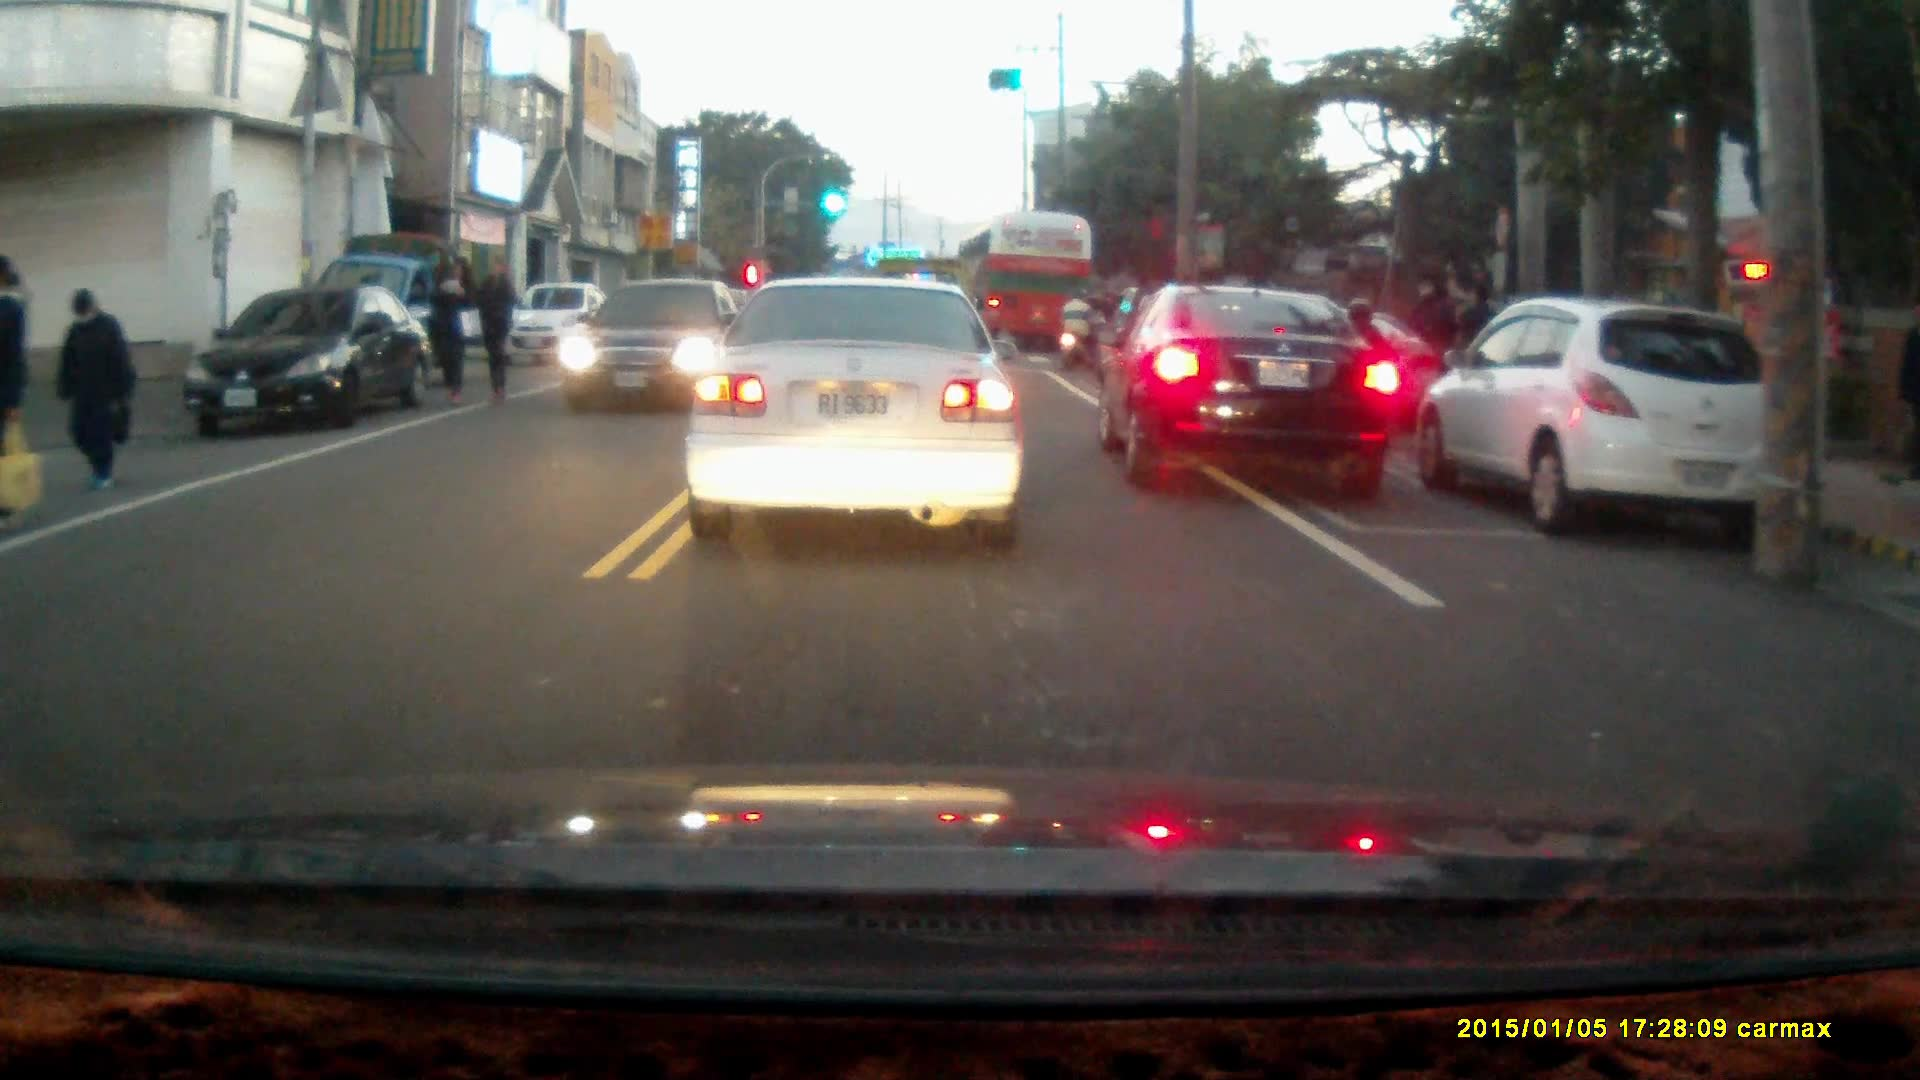pedestrian: (53, 286, 131, 495), (0, 251, 31, 524), (429, 256, 479, 407), (475, 255, 515, 408), (1455, 283, 1497, 399), (1417, 283, 1458, 391)
rider: (1054, 289, 1095, 371)
vehicle: (1412, 292, 1804, 546), (686, 272, 1028, 552), (1112, 284, 1406, 492), (190, 284, 429, 430), (306, 235, 483, 396), (559, 277, 751, 417), (960, 210, 1096, 351), (490, 282, 622, 368)
